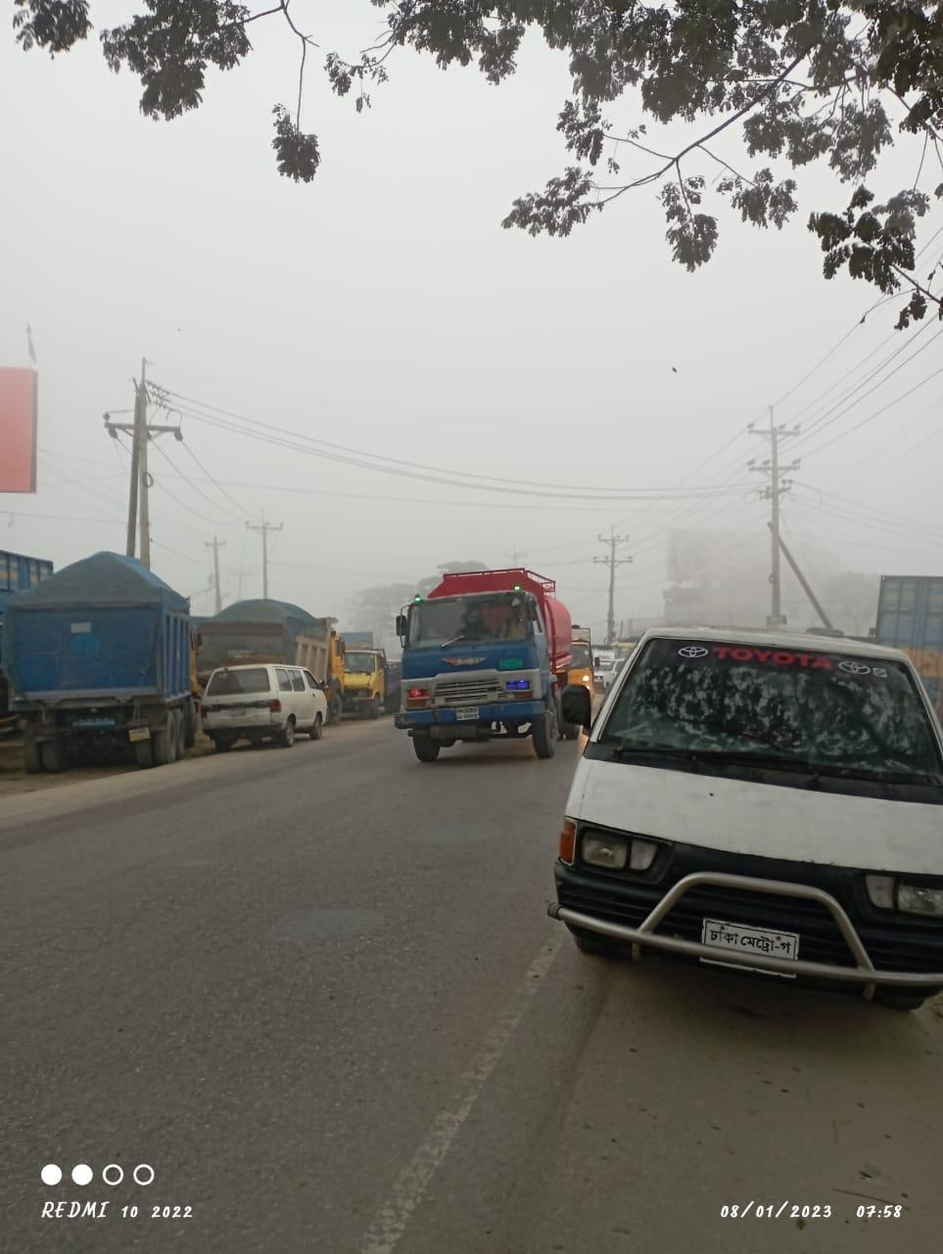Car: (554, 596, 943, 1032), (201, 647, 327, 752)
Truck: (8, 554, 202, 765), (389, 565, 566, 748)
